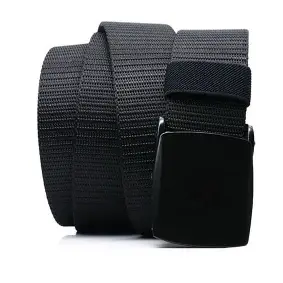sabuk_ada: (42, 20, 251, 233)
